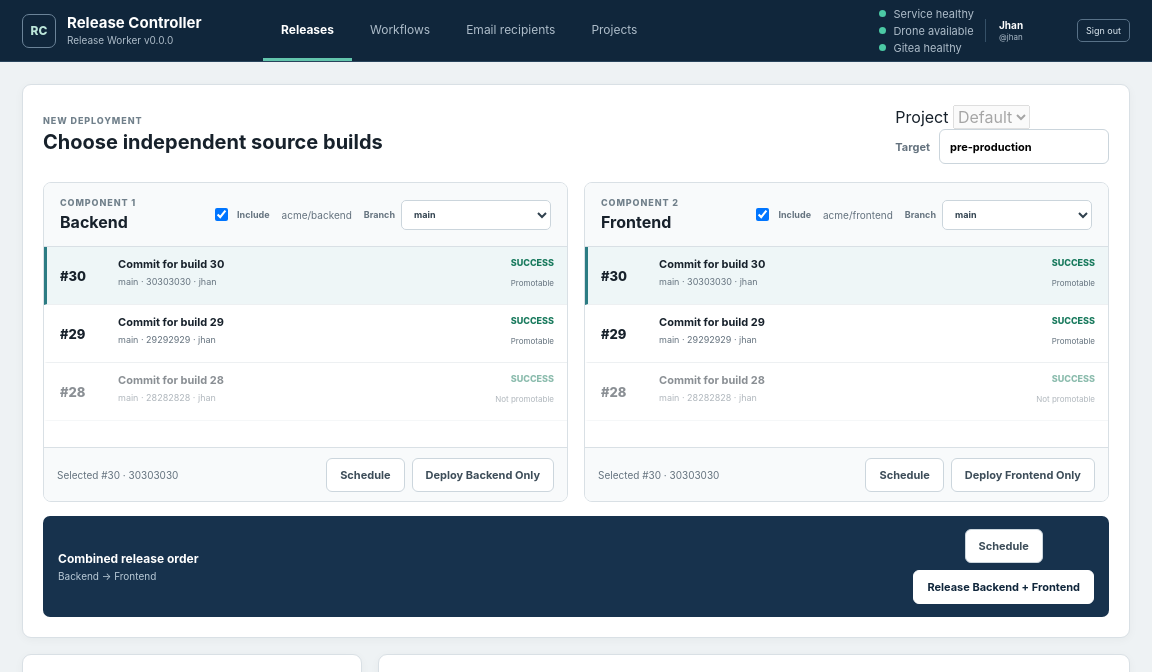
it: 發布動作 › 單一元件 promote 會打該元件的 build 端點並切到 Workflows 的 deployment 篩選
Expected: the button with class "build-row" below "acme/frontend" is shown, [585, 247, 1108, 305]
Click the button "Deploy Backend Only" at x=483, y=474, box [412, 458, 554, 492]
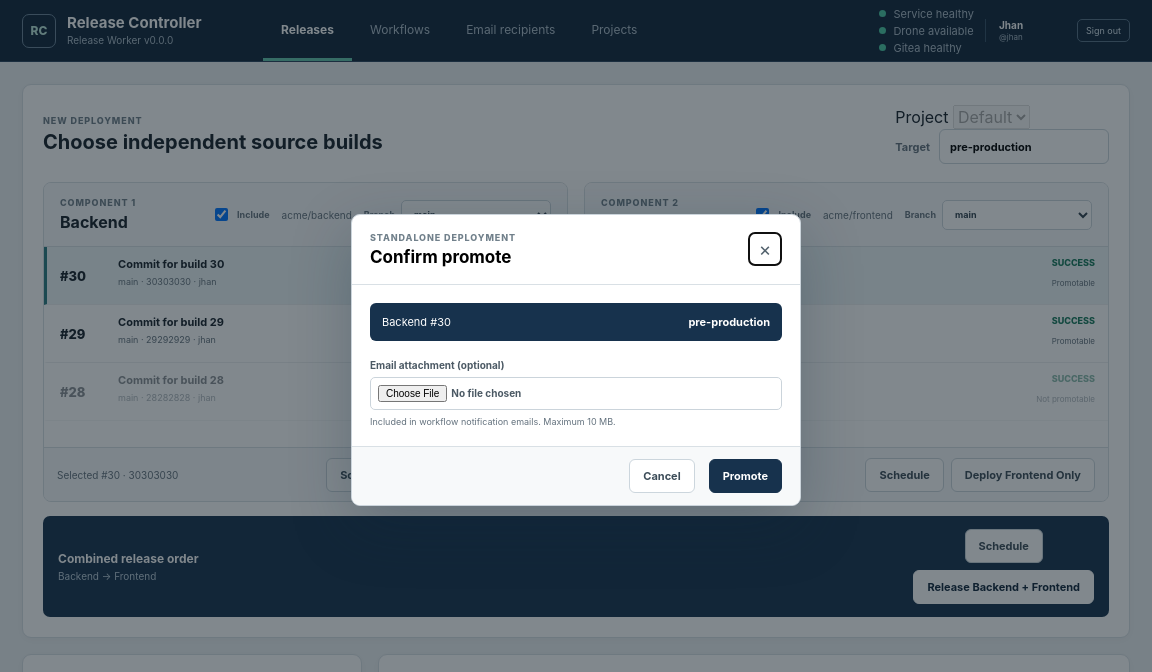
Expected: the element showing "Backend #30 pre-production" is shown, [370, 303, 782, 341]
Submit the form, box [352, 215, 800, 505]
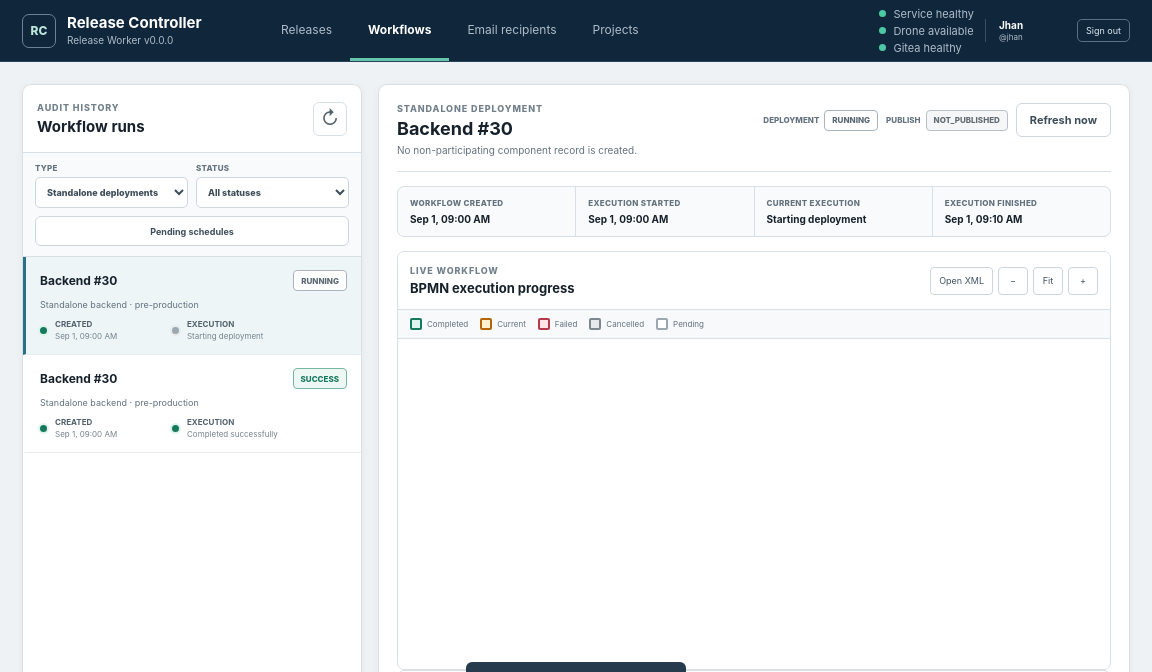
Expected: the heading with id "history-title" reads "Workflow runs", [37, 116, 145, 136]
